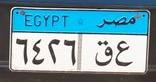2: (46, 39, 61, 66)
4: (32, 37, 44, 67)
6: (63, 36, 78, 67), (15, 37, 30, 66)
ain: (115, 39, 133, 69)
qaaf: (94, 39, 114, 67)
